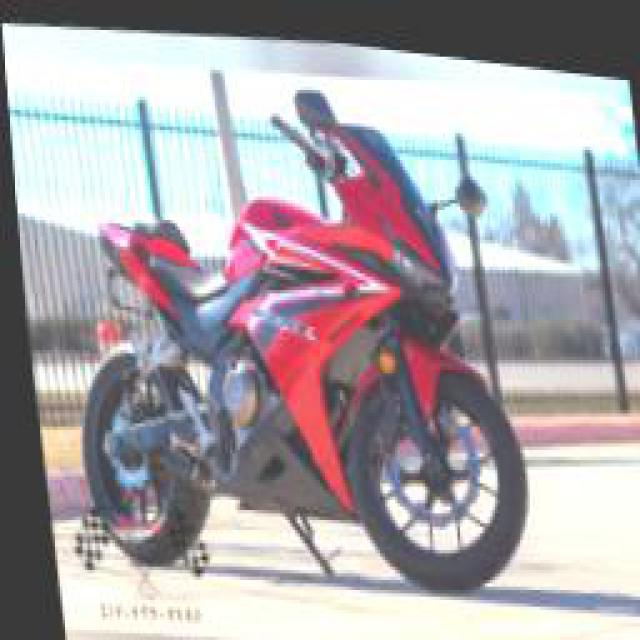CBR500R: (36, 70, 534, 610)
